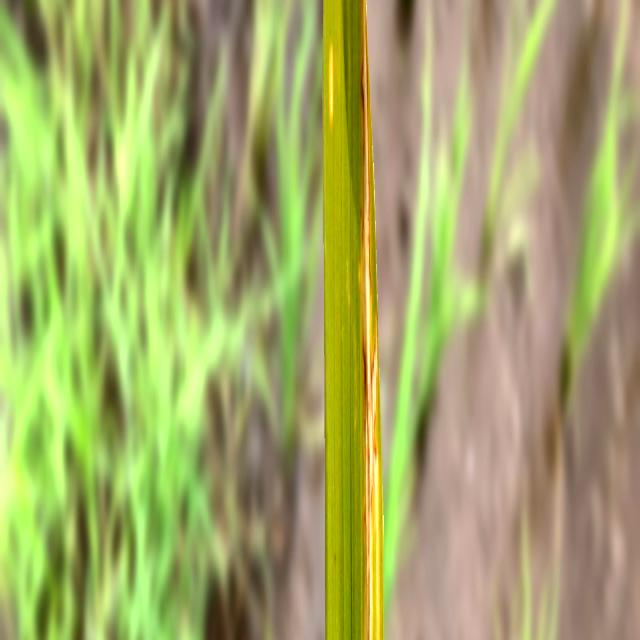BLS: (360, 0, 380, 640)
